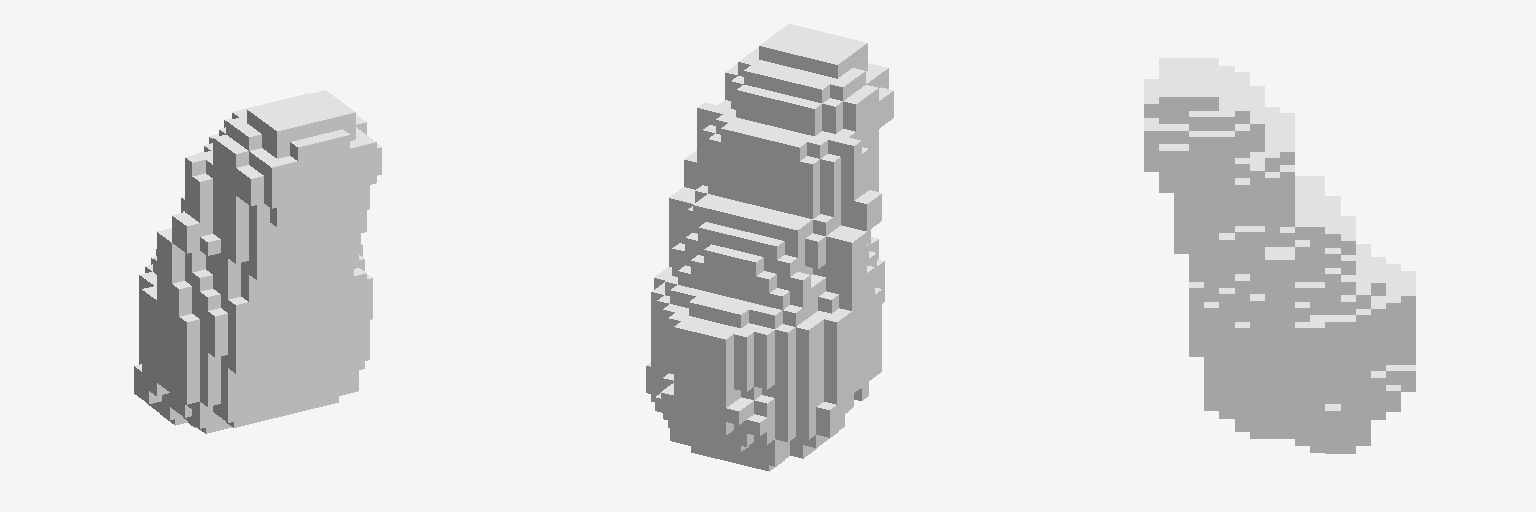
The model's file is charmeleon-v2-8.obj.
3 views of the same model, side by side, from view 1: azimuth 30°, elevation 25°; view 2: azimuth 150°, elevation 25°; view 3: azimuth 270°, elevation 25° (orthographic).
Parts seen in each view (by area): view 1: object 1; view 2: object 1; view 3: object 1.
Part boxes in pixels (x1,y1,x2,y2): object 1: (134,90,381,433); object 1: (646,24,893,471); object 1: (1144,58,1415,453).
Size of the model in its own units: 1.4 by 2.6 by 1.8.